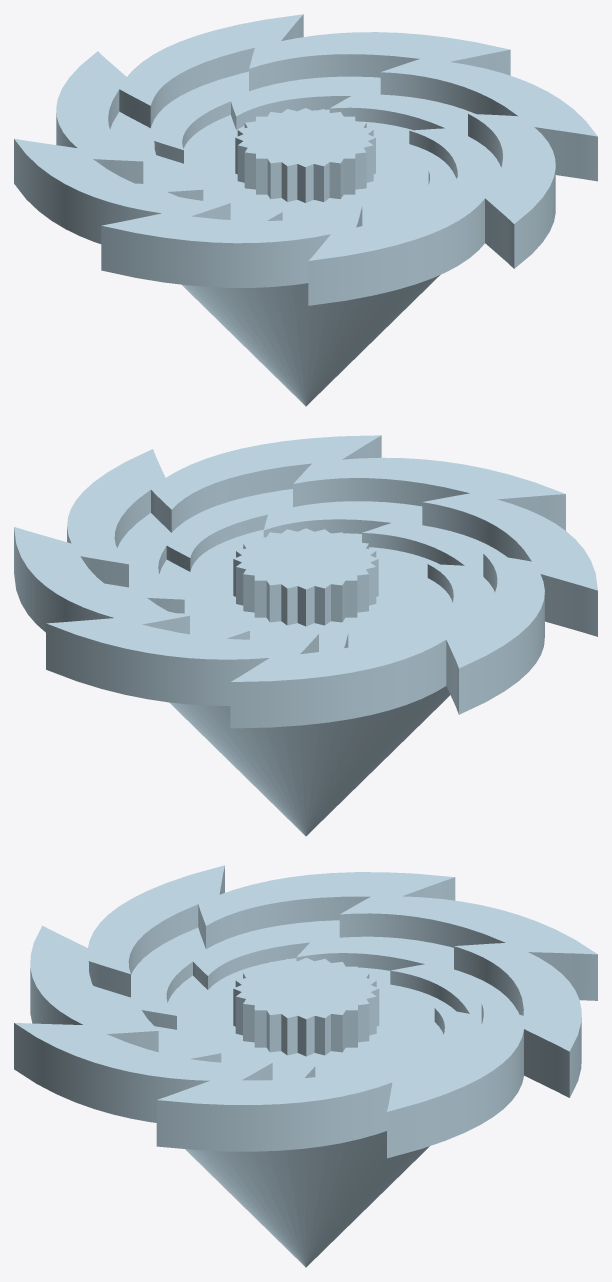
The model's file is Player.fbx.
3 renders of one model, top to bottom at view 1: azimuth 30°, elevation 25°; view 2: azimuth 150°, elevation 25°; view 3: azimuth 270°, elevation 25°, orthographic. The views are drawn at different scales.
Visible parts, largest first — view 1: mesh99; view 2: mesh99; view 3: mesh99.
Part boxes in pixels (x1,y1,x2,y2): mesh99: [14, 14, 597, 406]; mesh99: [14, 435, 597, 836]; mesh99: [14, 865, 597, 1267].
Bounding box in the file's own units: 569 × 300 × 569.
